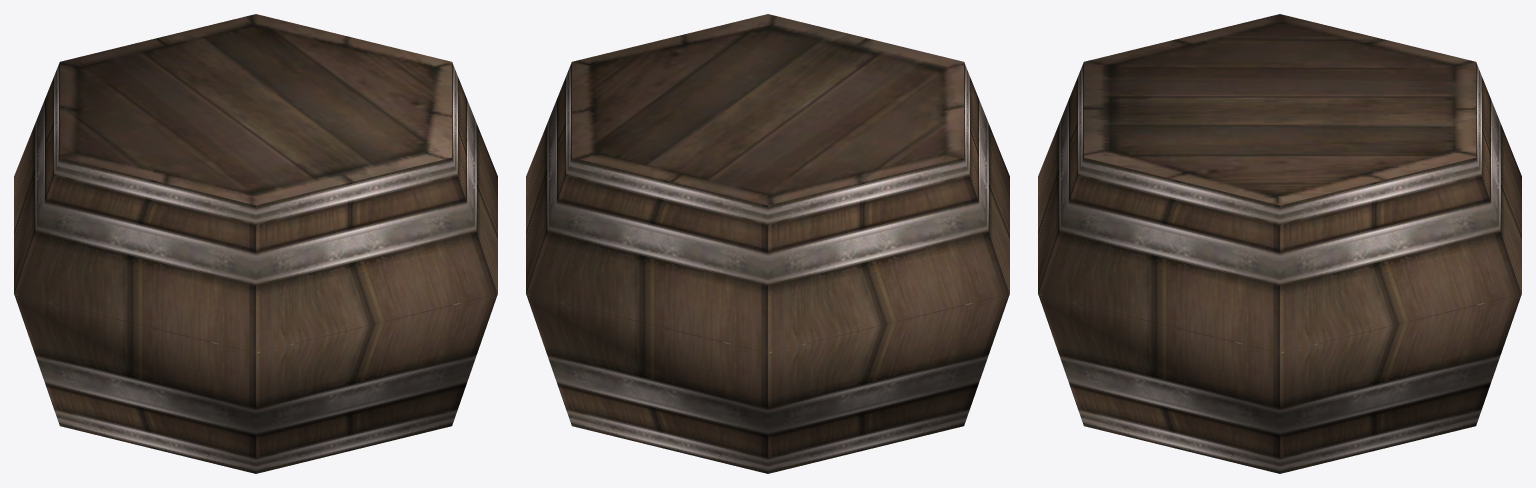
The model's file is stst83.dae.
3 renders of one model, left to right at view 1: azimuth 30°, elevation 25°; view 2: azimuth 150°, elevation 25°; view 3: azimuth 270°, elevation 25°, orthographic.
Visible parts, largest first — view 1: barrel; view 2: barrel; view 3: barrel.
Boxes of the visible parts, x1,y1,x2,y2 form: barrel: [14, 14, 497, 473]; barrel: [526, 14, 1009, 473]; barrel: [1038, 14, 1521, 473].
Size of the model in its own units: 0.5839 by 0.5057 by 0.3098.
1 material, 1 textured.
